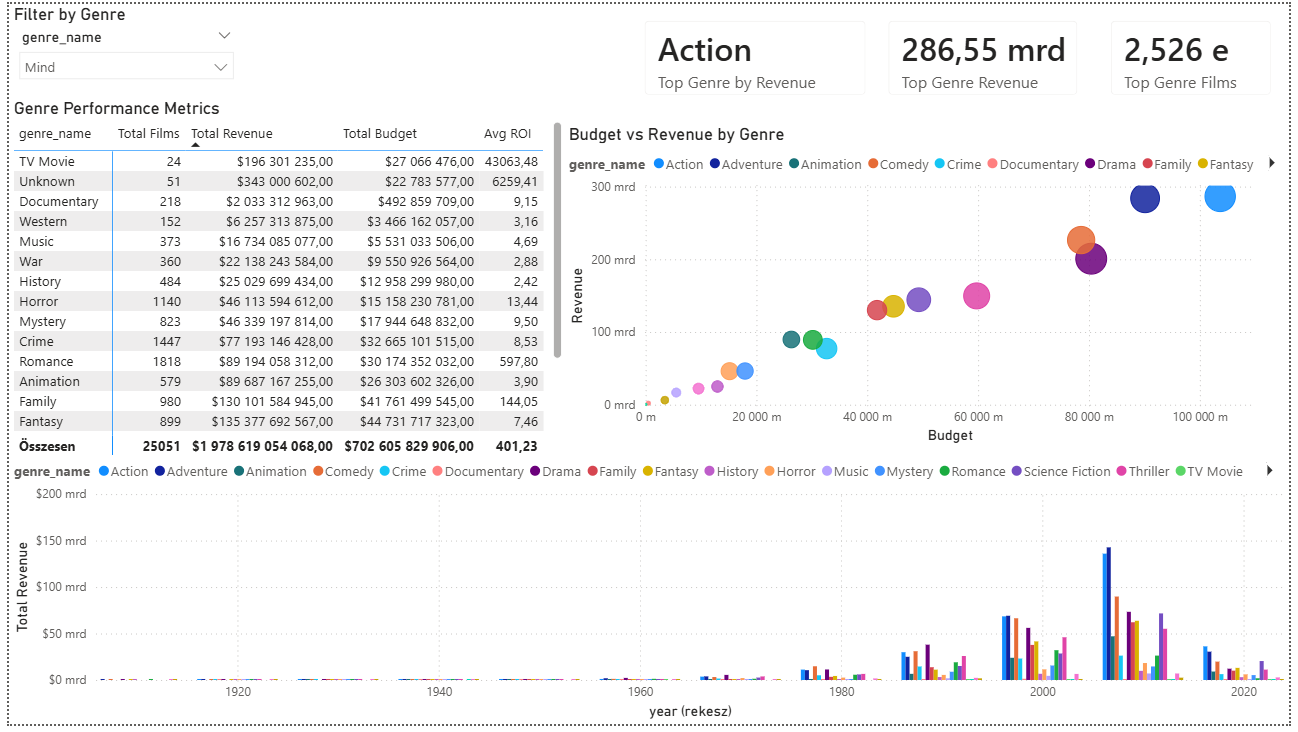

What the dashboard file says about the page in this screenshot:
{"tool":"powerbi","page":{"name":"Genre Analysis","canvas":[1280,720],"ordinal":1},"visuals":[{"type":"clusteredColumnChart","title":"Genre Revenue by Decade","fields":{"Y":["Fact_Movies.Total Revenue"],"Series":["Dim_Genre.genre_name"],"Category":["Dim_Time.year (rekesz)"]},"box":[0,427.8,1280,292.2],"z":0},{"type":"scatterChart","title":"Budget vs Revenue by Genre","fields":{"X":["Sum(Fact_Movies.budget)"],"Y":["Sum(Fact_Movies.revenue)"],"Series":["Dim_Genre.genre_name"],"Size":["Sum(Fact_Movies.vote_count)"]},"box":[555.6,120,724.4,324.4],"z":1000},{"type":"actionButton","box":[0,0,100,40],"z":2000},{"type":"pivotTable","title":"Genre Performance Metrics","fields":{"Rows":["Dim_Genre.genre_name"],"Values":["Fact_Movies.Total Films","Fact_Movies.Total Revenue","Fact_Movies.Total Budget","Fact_Movies.Avg ROI"]},"box":[0,93.3,557.8,362.2],"z":3000},{"type":"cardVisual","title":"Top Genre by Revenue","fields":{"Data":["Fact_Movies.Top Genre by Revenue"]},"box":[618.9,0,255.6,108.9],"z":4000},{"type":"cardVisual","fields":{"Data":["Fact_Movies.Top Genre Revenue"]},"box":[862.2,0,223.3,108.9],"z":5000},{"type":"cardVisual","fields":{"Data":["Fact_Movies.Top Genre Films"]},"box":[1085.6,0,194.4,108.9],"z":6000},{"type":"slicer","title":"Filter by Genre","fields":{"Values":["Dim_Genre.genre_name"]},"box":[0,0,234.4,97.8],"z":7000}]}

Visuals, with their boxes in screenshot pixels (x1, y1, x2, y2), scaled from the page's 1280x720 canvas onto the 1298x732 screenshot:
"Genre Revenue by Decade" clusteredColumnChart: locate(0, 435, 1297, 731)
"Budget vs Revenue by Genre" scatterChart: locate(563, 122, 1297, 452)
actionButton: locate(0, 0, 101, 41)
"Genre Performance Metrics" pivotTable: locate(0, 95, 566, 463)
"Top Genre by Revenue" cardVisual: locate(628, 0, 887, 111)
cardVisual - Fact_Movies.Top Genre Revenue: locate(874, 0, 1101, 111)
cardVisual - Fact_Movies.Top Genre Films: locate(1101, 0, 1297, 111)
"Filter by Genre" slicer: locate(0, 0, 238, 99)
